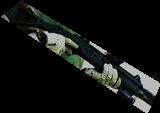gun: (1, 0, 160, 113)
